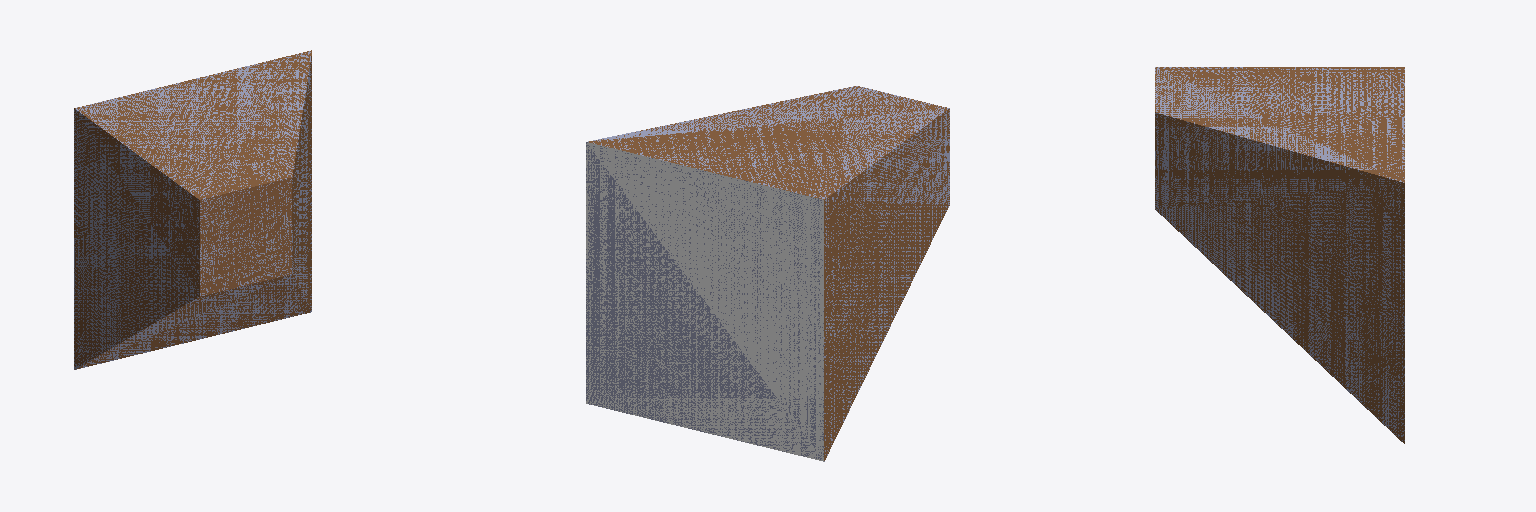
Rendered from sketchup_model_test3.obj.
3 renders of one model, left to right at view 1: azimuth 30°, elevation 25°; view 2: azimuth 150°, elevation 25°; view 3: azimuth 270°, elevation 25°, orthographic.
Parts seen in each view (by area): view 1: Mesh1 Model; view 2: Mesh1 Model; view 3: Mesh1 Model.
Part boxes in pixels (left/top/right/bottom): Mesh1 Model: left=74, top=50, right=311, bottom=369; Mesh1 Model: left=586, top=86, right=949, bottom=461; Mesh1 Model: left=1155, top=67, right=1404, bottom=443.
Bounding box in the file's own units: 893 × 938 × 813.